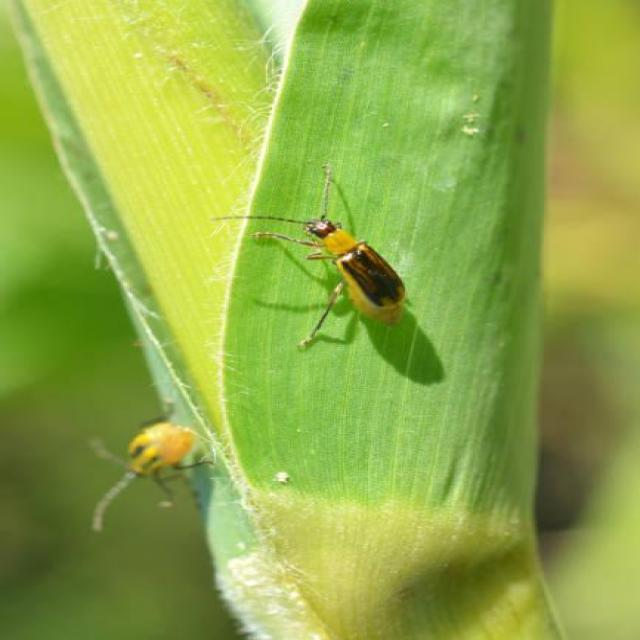trips: (209, 165, 408, 352), (83, 402, 213, 534)
